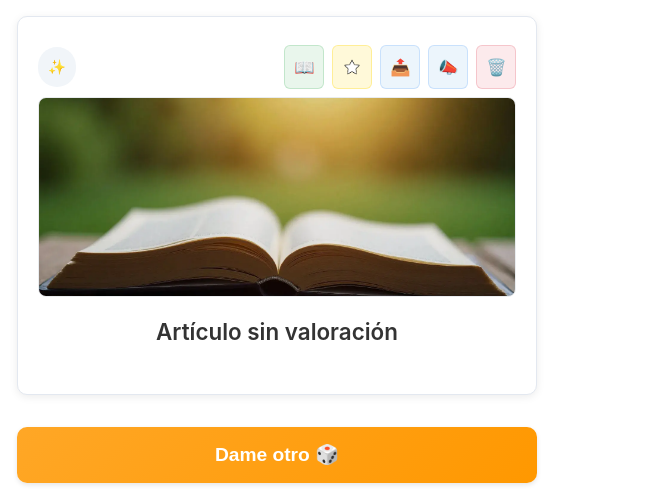
Test: RandomArticle - Valoración IA › sin rating muestra badge neutro y popover con mensaje de Telegram
Note: El popover con el mensaje de Telegram aparece al clicar
Click the button named "Nota IA. Toca para saber cómo activarla".
click(57, 67)  # box [38,47,76,87]
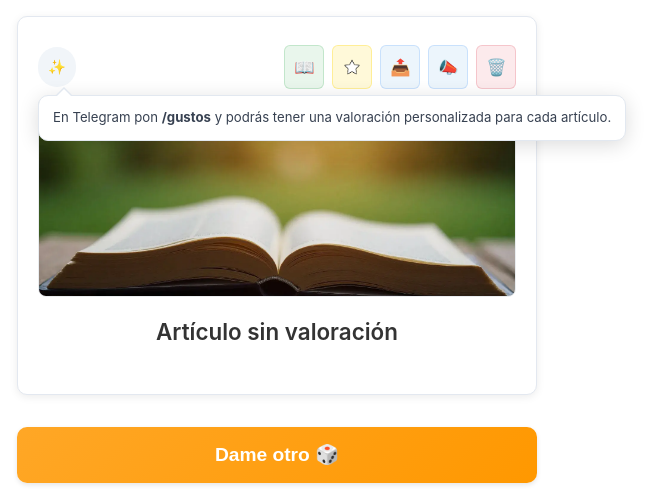
Check: the text "/gustos" is shown, box [162,109,211,125]
Check: the text "Telegram" is shown, box [53,109,162,125]
